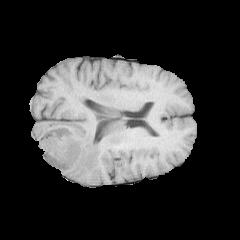glioma: (38, 127, 100, 175)
